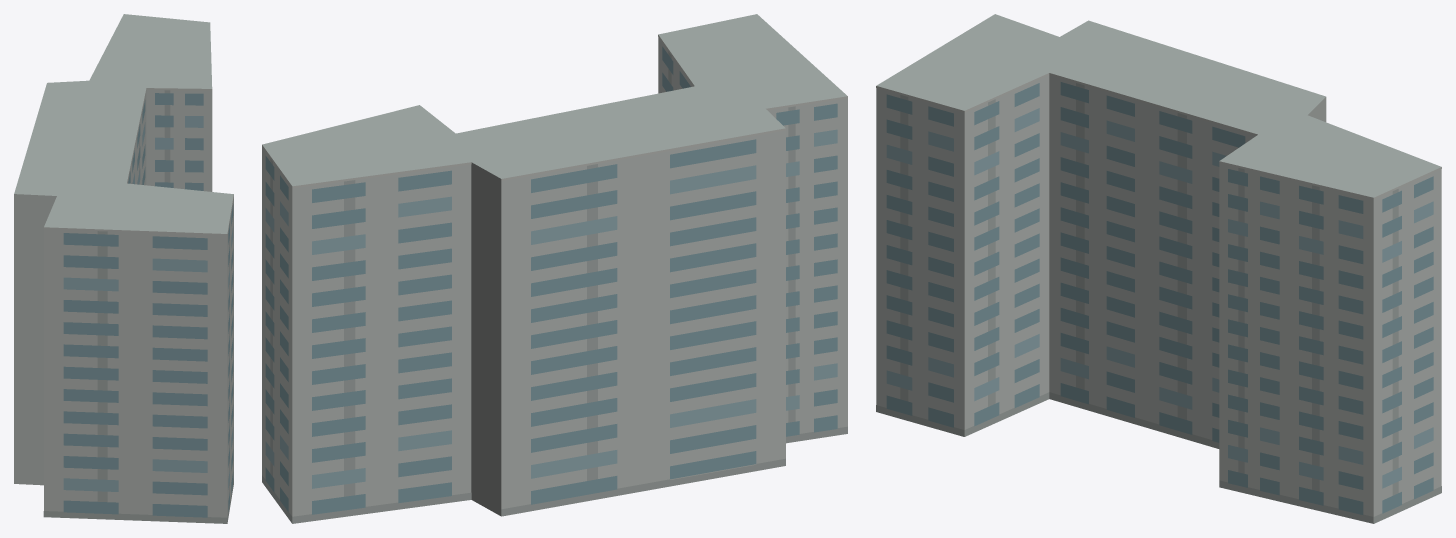
File: residential-f41210ce-5e2e-4b44-9005-04ac71c2b513.glb
The picture shows the model from 3 angles, left to right: view 1: azimuth 30°, elevation 25°; view 2: azimuth 150°, elevation 25°; view 3: azimuth 270°, elevation 25°; orthographic projection. The views are drawn at different scales.
Visible parts, largest first — view 1: residential-f41210ce-5e2e-4b44-9005-04ac71c2b513.tmp; view 2: residential-f41210ce-5e2e-4b44-9005-04ac71c2b513.tmp; view 3: residential-f41210ce-5e2e-4b44-9005-04ac71c2b513.tmp.
Part boxes in pixels (x1,y1,x2,y2): residential-f41210ce-5e2e-4b44-9005-04ac71c2b513.tmp: (14, 14, 233, 523); residential-f41210ce-5e2e-4b44-9005-04ac71c2b513.tmp: (262, 14, 847, 523); residential-f41210ce-5e2e-4b44-9005-04ac71c2b513.tmp: (876, 14, 1441, 523).
Bounding box in the file's own units: 45.92 × 38 × 59.73.
